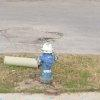a fire hydrant: (39, 43, 56, 88)
